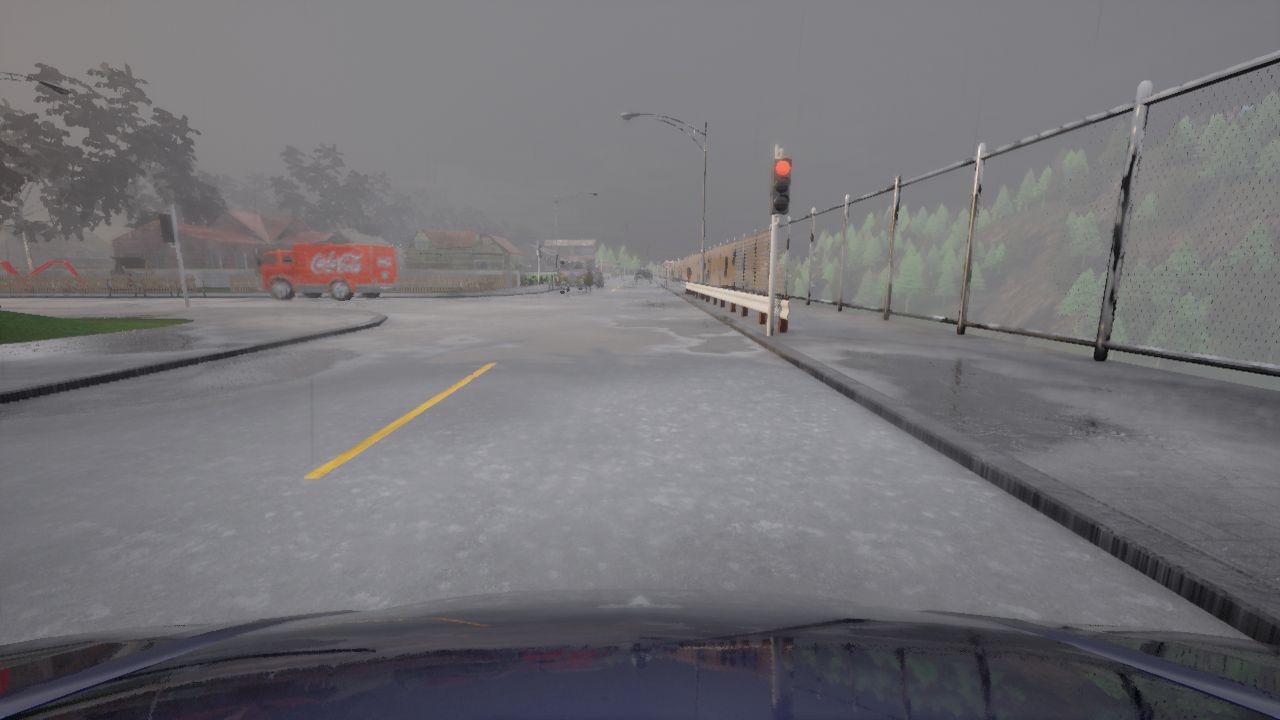cyclist: (0, 588, 1279, 719), (256, 243, 400, 301), (557, 260, 593, 293), (593, 268, 602, 288)
pedestrian: (126, 273, 137, 294), (686, 265, 692, 281)
